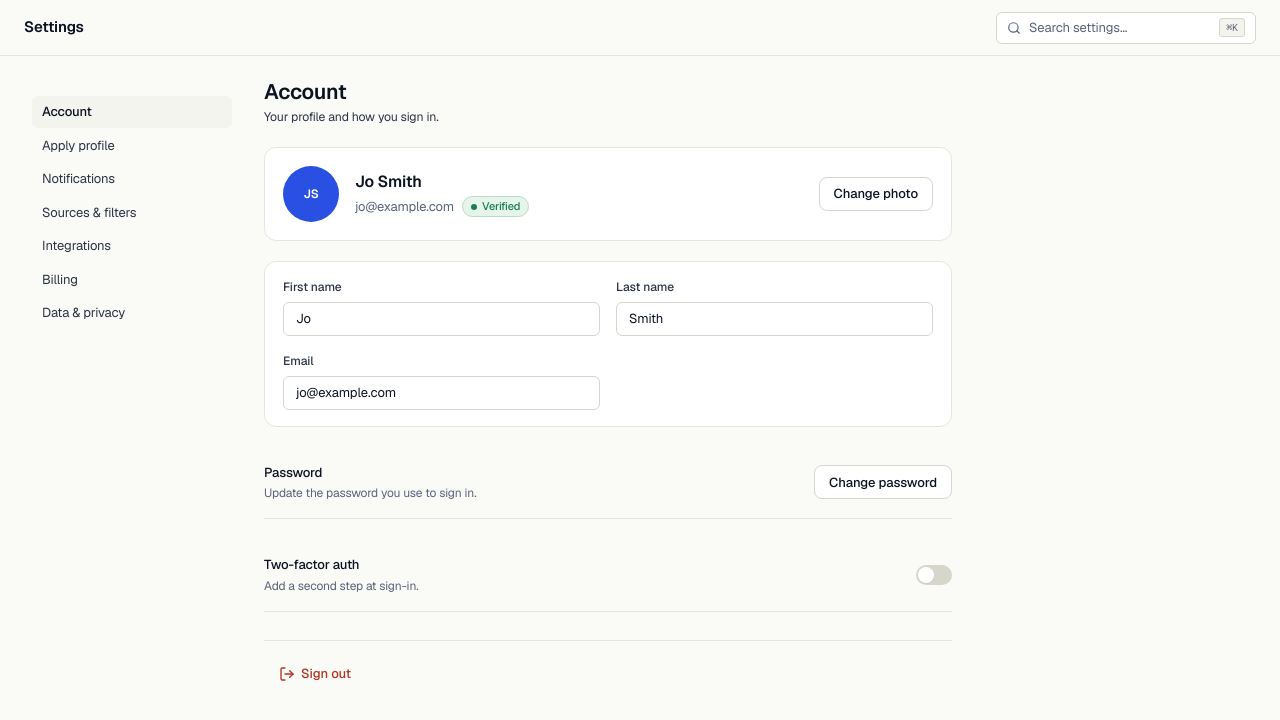
Test case: TC-FE-2FA-01: enabling 2FA calls the setup API and shows a QR code › shows an 'already active' message instead of a QR code on 409
What coordinates should you click on to do the following:
click the switch named "two-factor auth"
I would click on:
 (934, 575)
Its box is [916, 565, 952, 585].
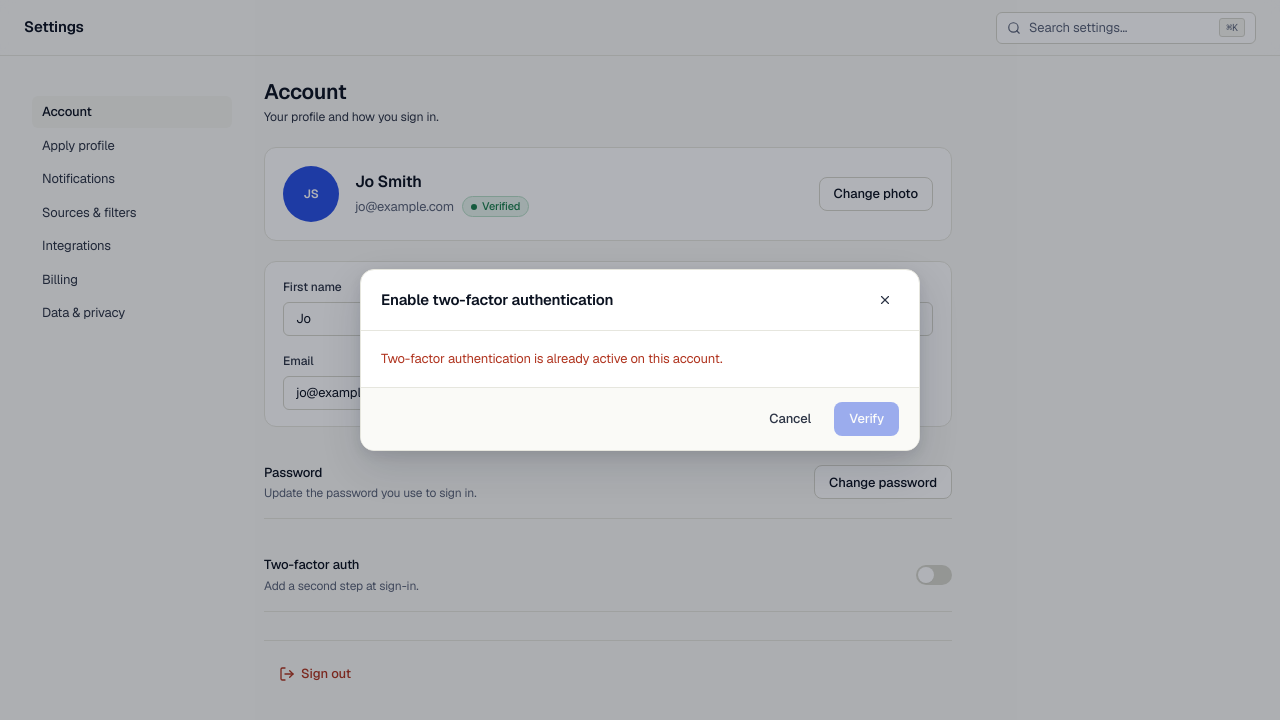
Check: the text "Two-factor authentication is already active on this account." is shown, box [381, 350, 722, 367]
